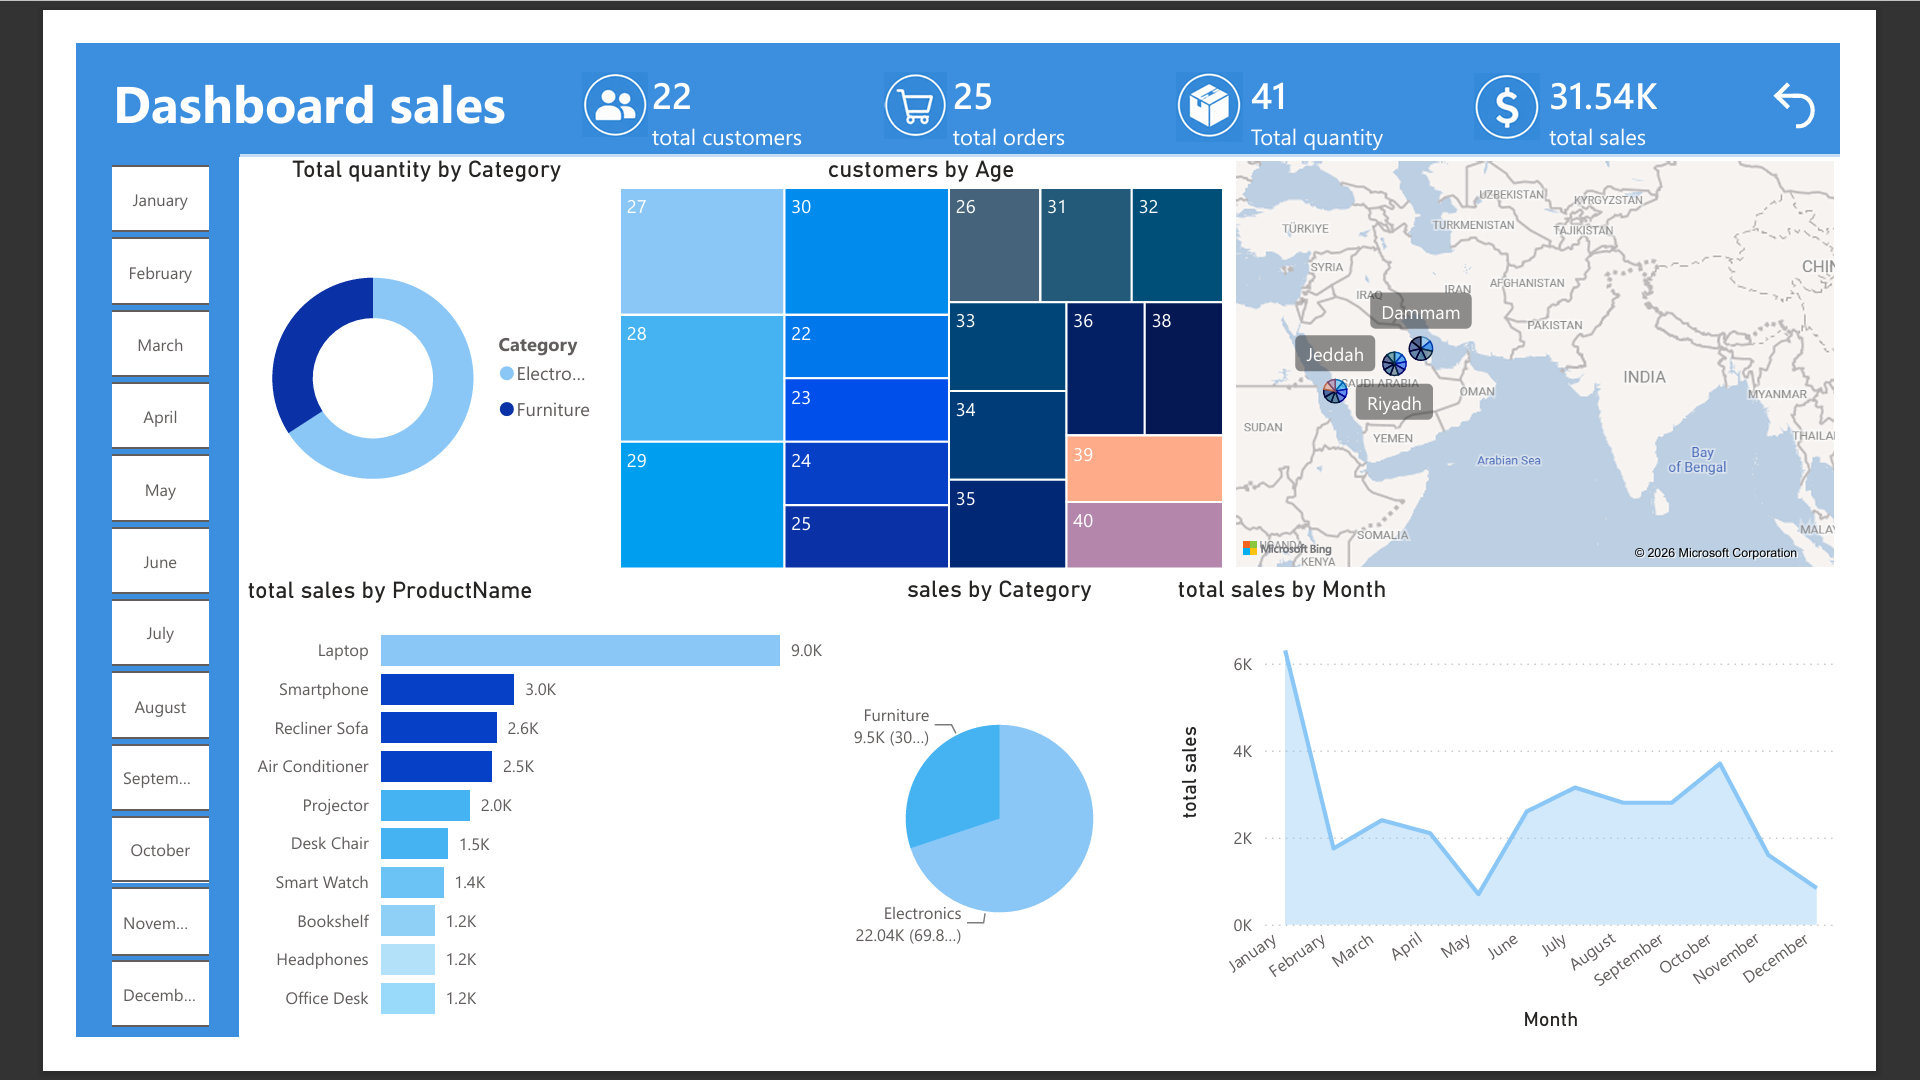

The dashboard page shown, as its layout file describes it:
{"tool":"powerbi","page":{"name":"Page 1","canvas":[1280,720],"ordinal":0},"visuals":[{"type":"shape","box":[0,0,1278.3,81.7],"z":0},{"type":"textbox","box":[21.7,13.3,368.3,68.3],"z":1000},{"type":"cardVisual","fields":{"Data":["Customers.total customers","Sales.total orders","Sales.Total quantity","Sales.total sales"]},"box":[390,1.7,890,93.3],"z":2000},{"type":"map","fields":{"Category":["Customers.City"],"Series":["Sales.Total Price"]},"box":[835.7,81.4,442.9,304.3],"z":3000},{"type":"pieChart","title":"sales by Category","fields":{"Category":["Products.Category"],"Y":["Sales.total sales"]},"box":[545,385,248.3,335],"z":4000},{"type":"areaChart","fields":{"Y":["Sales.total sales"],"Category":["Sales.SaleDate.Variation.Date Hierarchy.Month"]},"box":[793.3,385,486.7,335],"z":5000},{"type":"barChart","fields":{"Category":["Products.ProductName"],"Y":["Sales.total sales"]},"box":[118.6,385.7,427.1,334.3],"z":6000},{"type":"donutChart","fields":{"Category":["Products.Category"],"Y":["Sales.Total quantity"]},"box":[118.6,81.4,270,304.3],"z":7000},{"type":"treemap","title":"customers by Age","fields":{"Group":["Customers.Age"],"Values":["Customers.total customers"]},"box":[388.6,81.4,447.1,304.3],"z":8000},{"type":"shape","box":[0,81.7,118.3,638.3],"z":9000},{"type":"slicer","fields":{"Values":["Sales.SaleDate.Variation.Date Hierarchy.Month"]},"box":[0,81.7,120,638.3],"z":10000},{"type":"image","box":[1013.3,21.1,46.7,50],"z":11000},{"type":"image","box":[793.3,21.1,55.6,50],"z":12000},{"type":"image","box":[366.7,21,47.8,50],"z":13000},{"type":"image","box":[585.6,21,45.6,50],"z":14000},{"type":"actionButton","box":[1223.3,21.7,43.3,45],"z":14001}]}

Visuals, with their boxes in screenshot pixels (x1, y1, x2, y2), scaled from the page's 1280x720 canvas onto the 1920x1080 screenshot:
shape: [x1=0, y1=0, x2=1917, y2=123]
textbox: [x1=33, y1=20, x2=585, y2=122]
cardVisual - Customers.total customers x Sales.total orders: [x1=585, y1=3, x2=1919, y2=142]
map - Customers.City x Sales.Total Price: [x1=1254, y1=122, x2=1918, y2=579]
"sales by Category" pieChart: [x1=818, y1=578, x2=1190, y2=1079]
areaChart - Sales.total sales x Sales.SaleDate.Variation.Date Hierarchy.Month: [x1=1190, y1=578, x2=1919, y2=1079]
barChart - Products.ProductName x Sales.total sales: [x1=178, y1=579, x2=819, y2=1079]
donutChart - Products.Category x Sales.Total quantity: [x1=178, y1=122, x2=583, y2=579]
"customers by Age" treemap: [x1=583, y1=122, x2=1254, y2=579]
shape: [x1=0, y1=123, x2=177, y2=1079]
slicer - Sales.SaleDate.Variation.Date Hierarchy.Month: [x1=0, y1=123, x2=180, y2=1079]
image: [x1=1520, y1=32, x2=1590, y2=107]
image: [x1=1190, y1=32, x2=1273, y2=107]
image: [x1=550, y1=32, x2=622, y2=106]
image: [x1=878, y1=32, x2=947, y2=106]
actionButton: [x1=1835, y1=33, x2=1900, y2=100]
